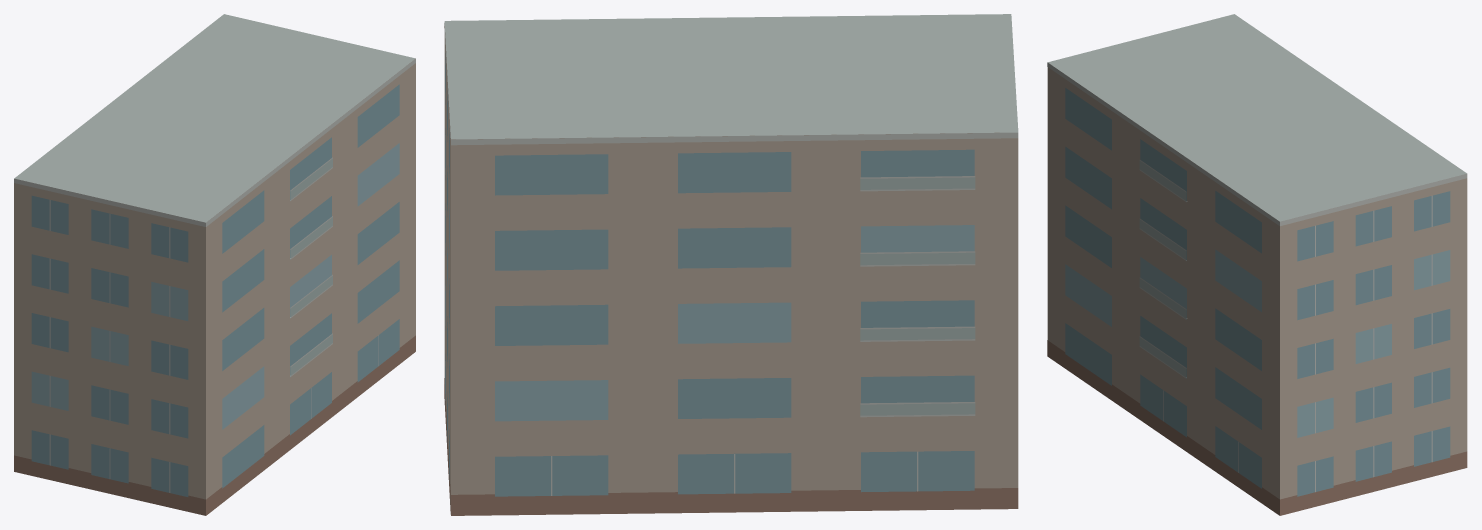
Rendered from survey-upis-32770035.glb.
3 views of the same model, side by side, from view 1: azimuth 30°, elevation 25°; view 2: azimuth 150°, elevation 25°; view 3: azimuth 270°, elevation 25° (orthographic). The views are drawn at different scales.
Visible parts, largest first — view 1: survey-upis-32770035.tmp; view 2: survey-upis-32770035.tmp; view 3: survey-upis-32770035.tmp.
Part boxes in pixels (x1=…): survey-upis-32770035.tmp: x1=14, y1=14, x2=415, y2=515; survey-upis-32770035.tmp: x1=444, y1=14, x2=1018, y2=515; survey-upis-32770035.tmp: x1=1047, y1=14, x2=1467, y2=515.
Bounding box in the file's own units: 24.09 × 15.9 × 20.58.
